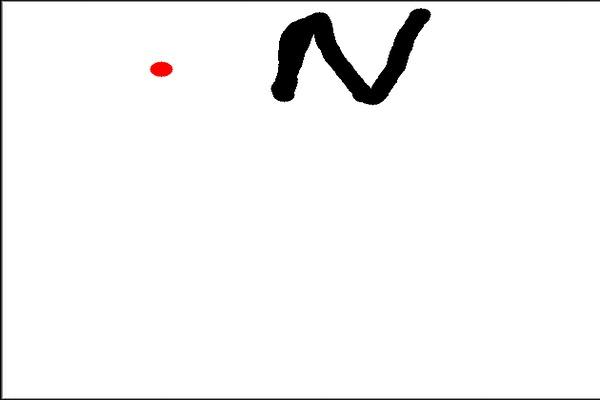N: (266, 3, 437, 110)
